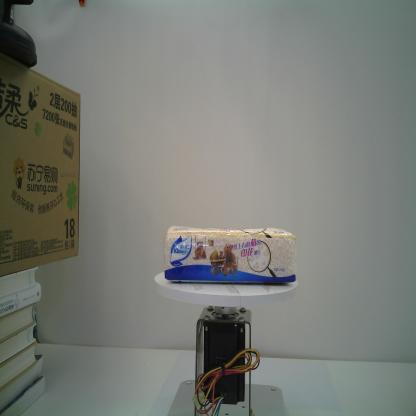Tissue: (160, 223, 298, 286)
